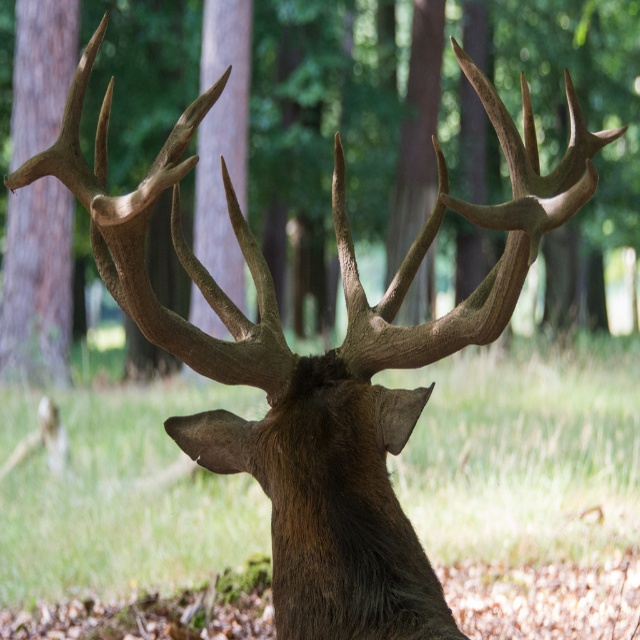Deer: (4, 11, 628, 640)
